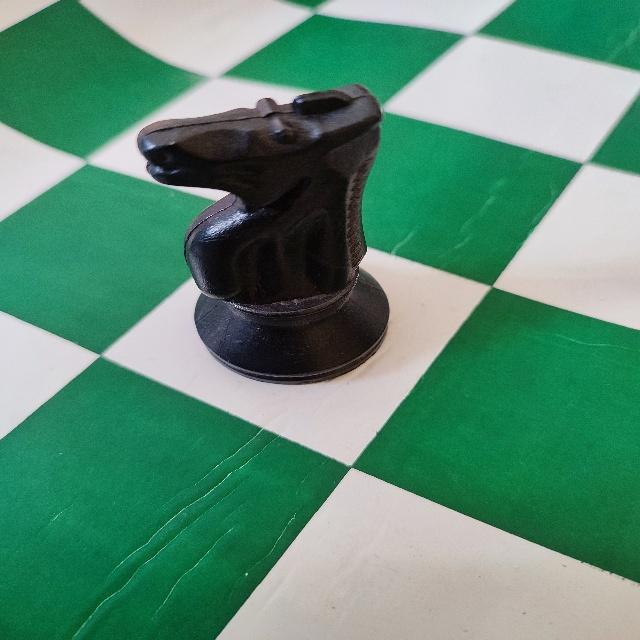Knight: (134, 76, 396, 390)
